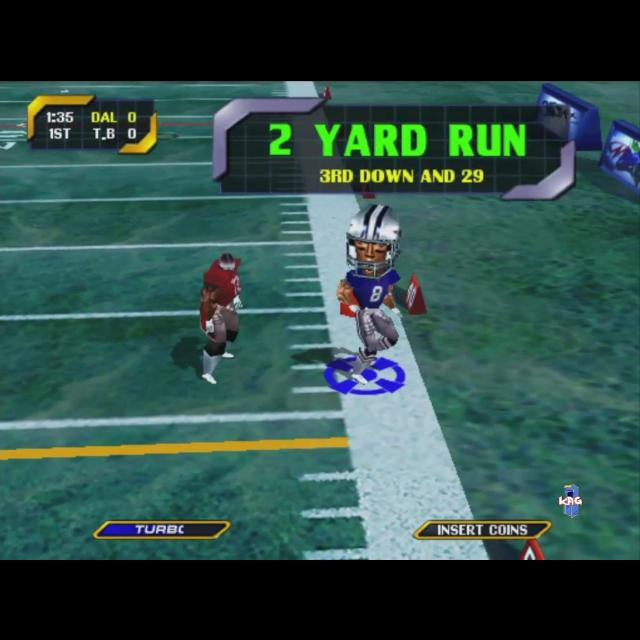player: (336, 202, 402, 382), (200, 252, 244, 382)
